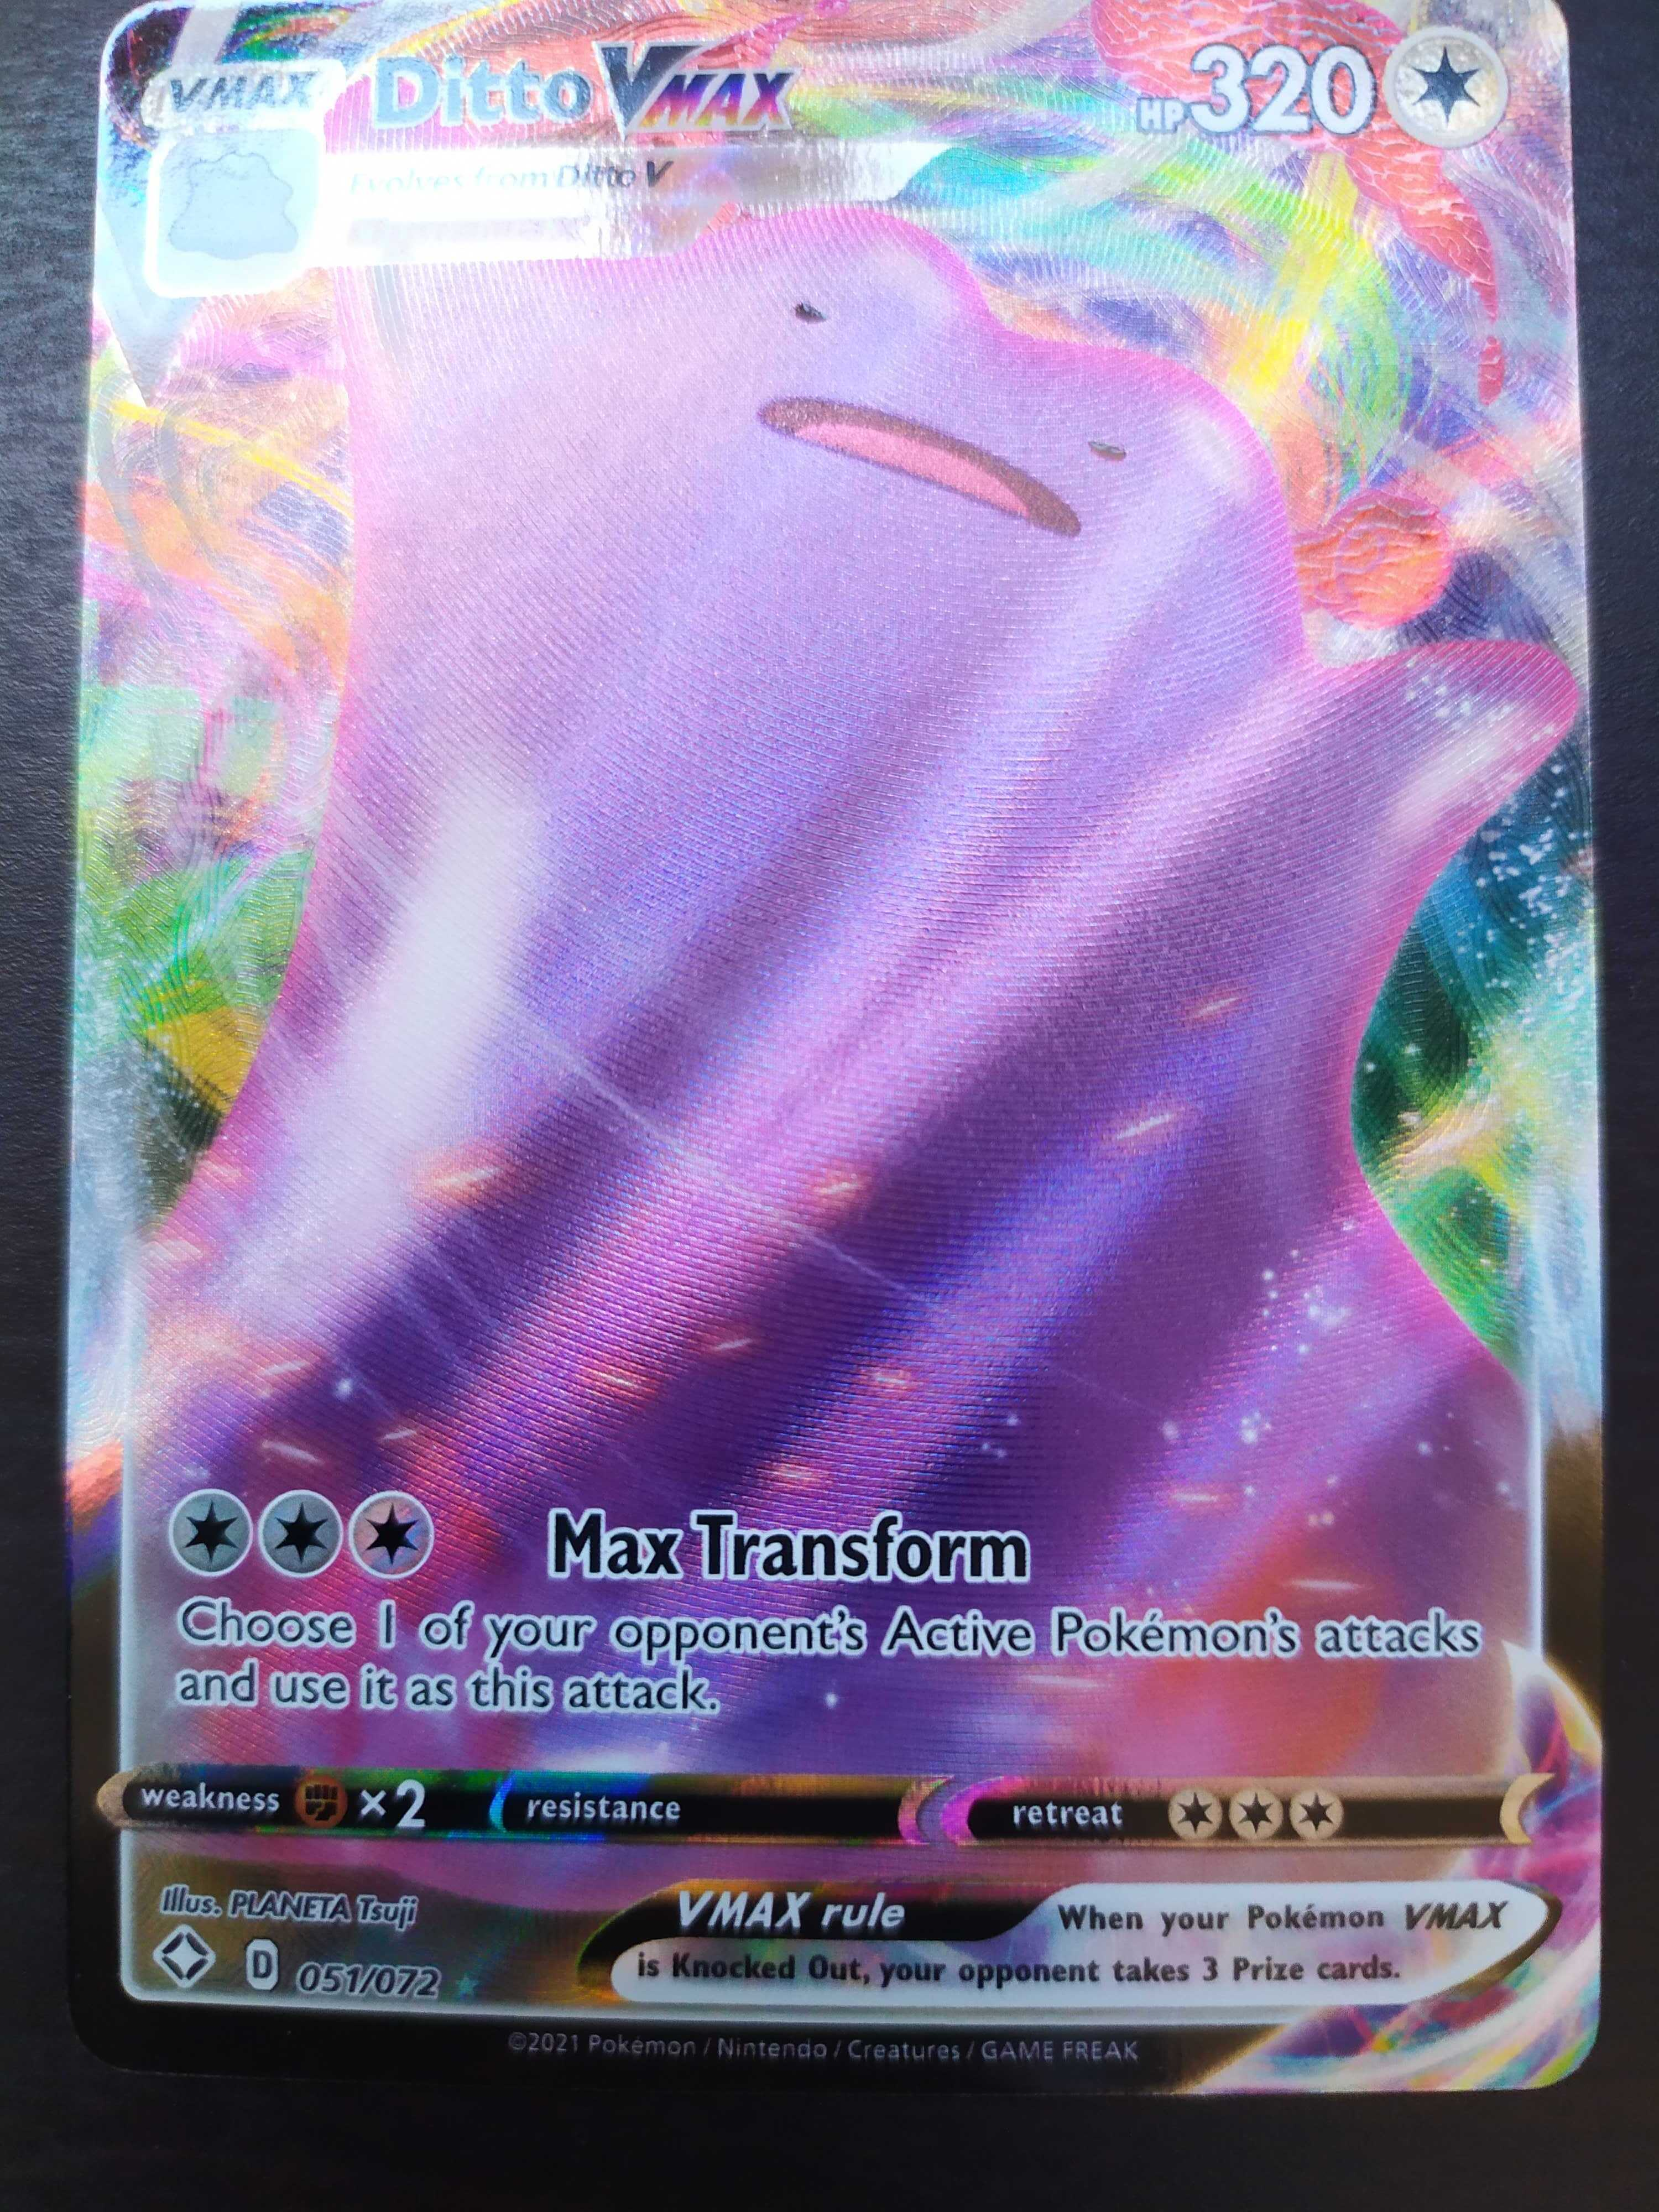collector_number: (295, 1959, 443, 2001)
full_card: (68, 2, 1601, 2090)
name: (373, 40, 802, 139)
set_icon: (153, 1926, 216, 1987)
